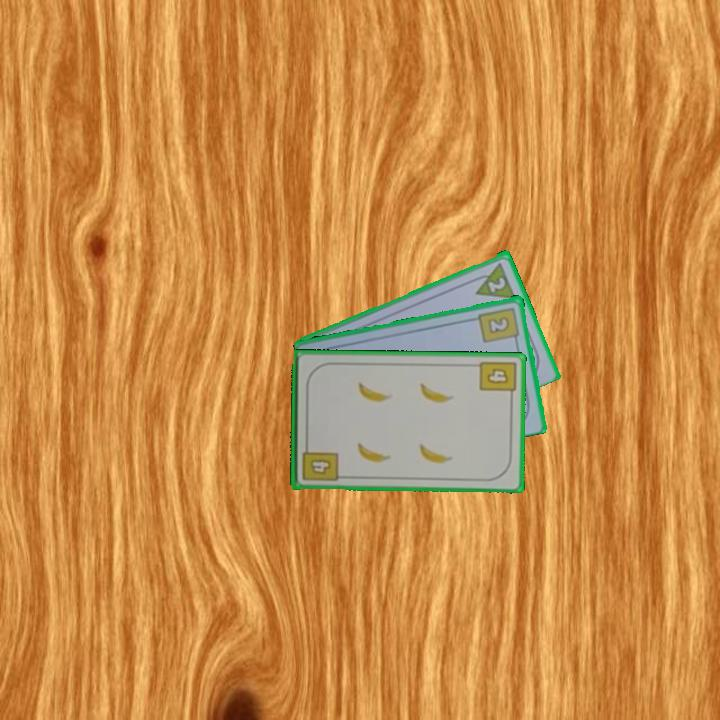2b: (476, 303, 522, 345)
2p: (468, 258, 518, 301)
4b: (476, 357, 518, 401), (298, 440, 340, 483)
